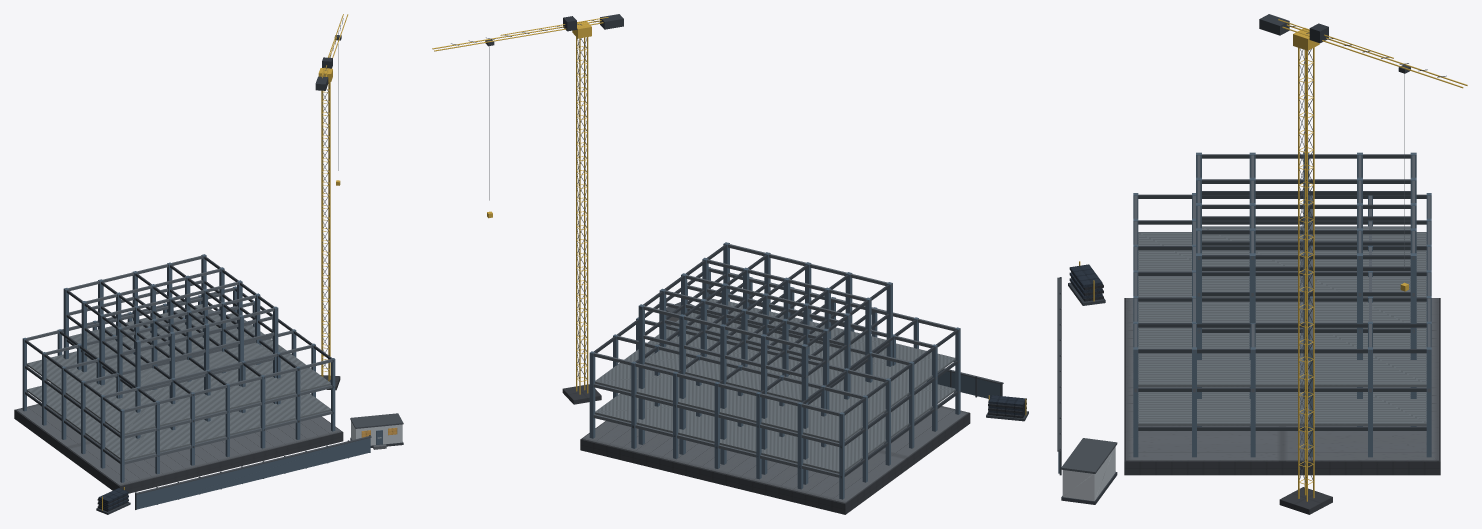
Rendered from trg-8-construction.glb.
3 views of the same model, side by side, from view 1: azimuth 30°, elevation 25°; view 2: azimuth 150°, elevation 25°; view 3: azimuth 270°, elevation 25° (orthographic). The views are drawn at different scales.
Bounding box in the file's own units: 54.64 × 44.75 × 34.39.
Materials: 20 (12 with a texture image).
